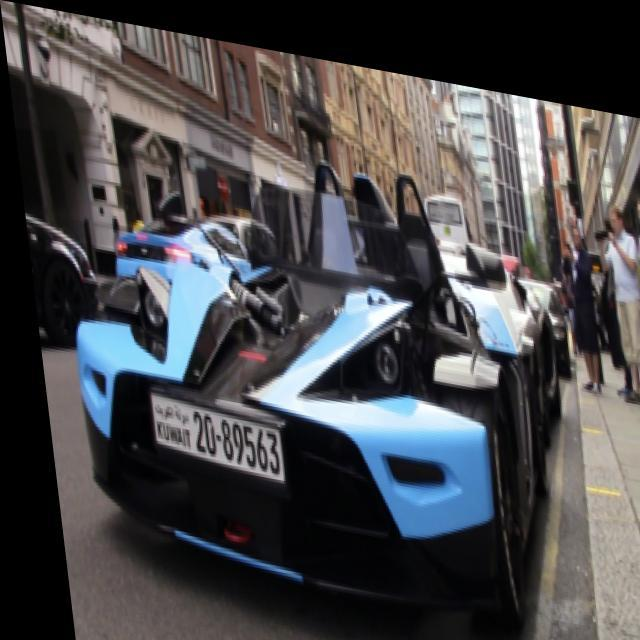license_plate: (137, 385, 274, 472)
